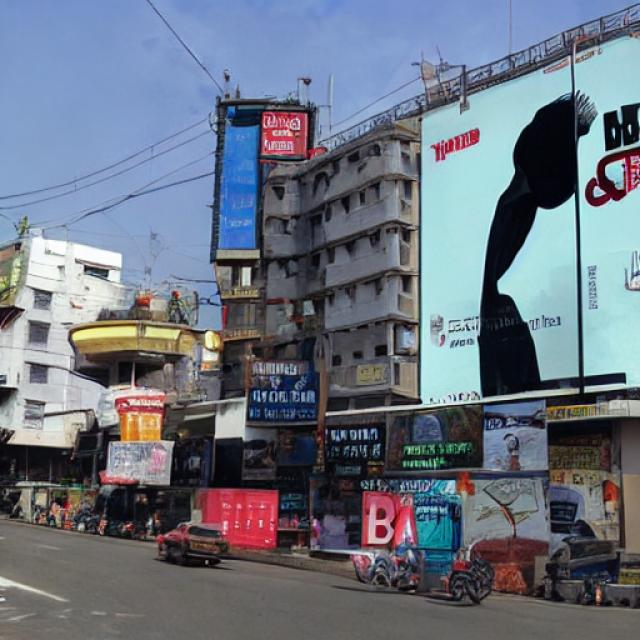Billboard: (420, 29, 640, 409)
